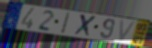2: (35, 10, 56, 32)
4: (20, 6, 37, 30)
9: (99, 18, 116, 40)
I: (60, 12, 72, 35)
V: (118, 19, 138, 43)
X: (73, 13, 98, 39)
